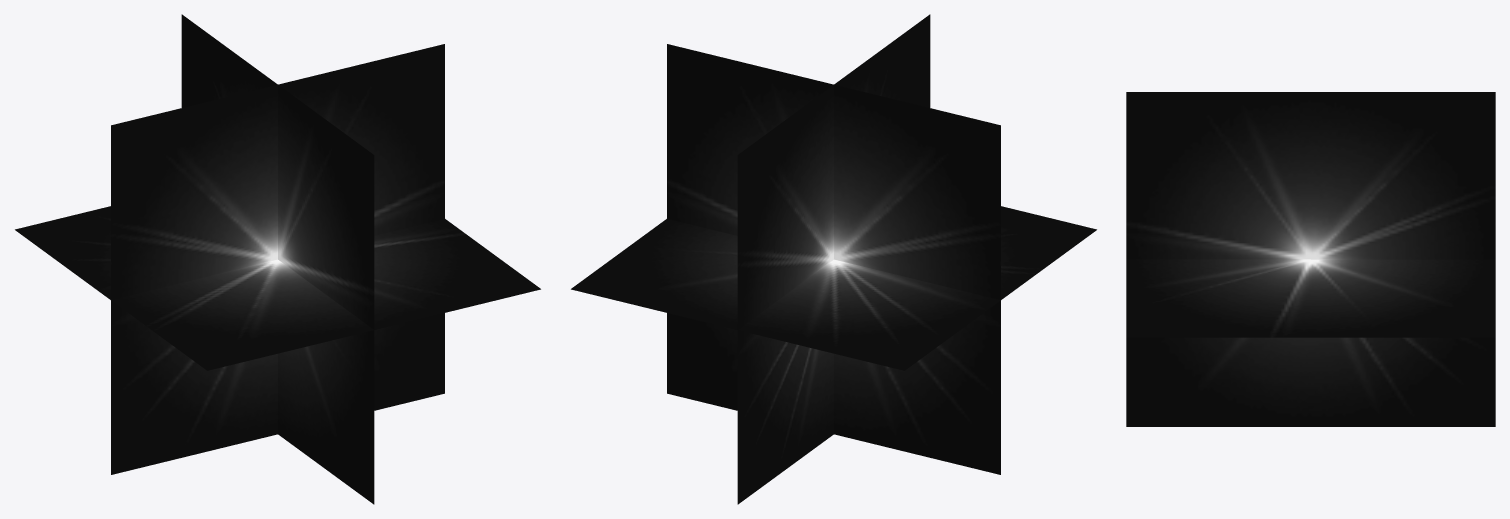
The model's file is si_ees_2701.glb.
The picture shows the model from 3 angles, left to right: view 1: azimuth 30°, elevation 25°; view 2: azimuth 150°, elevation 25°; view 3: azimuth 270°, elevation 25°; orthographic projection. The views are drawn at different scales.
Parts seen in each view (by area): view 1: layer_00_si_est_0000; view 2: layer_00_si_est_0000; view 3: layer_00_si_est_0000.
Boxes of the visible parts, x1=… form: layer_00_si_est_0000: x1=15, y1=14, x2=540, y2=504; layer_00_si_est_0000: x1=571, y1=14, x2=1096, y2=504; layer_00_si_est_0000: x1=1126, y1=92, x2=1495, y2=426.
Size of the model in its own units: 3200 by 3200 by 3200.
Materials: 1 (1 with a texture image).
